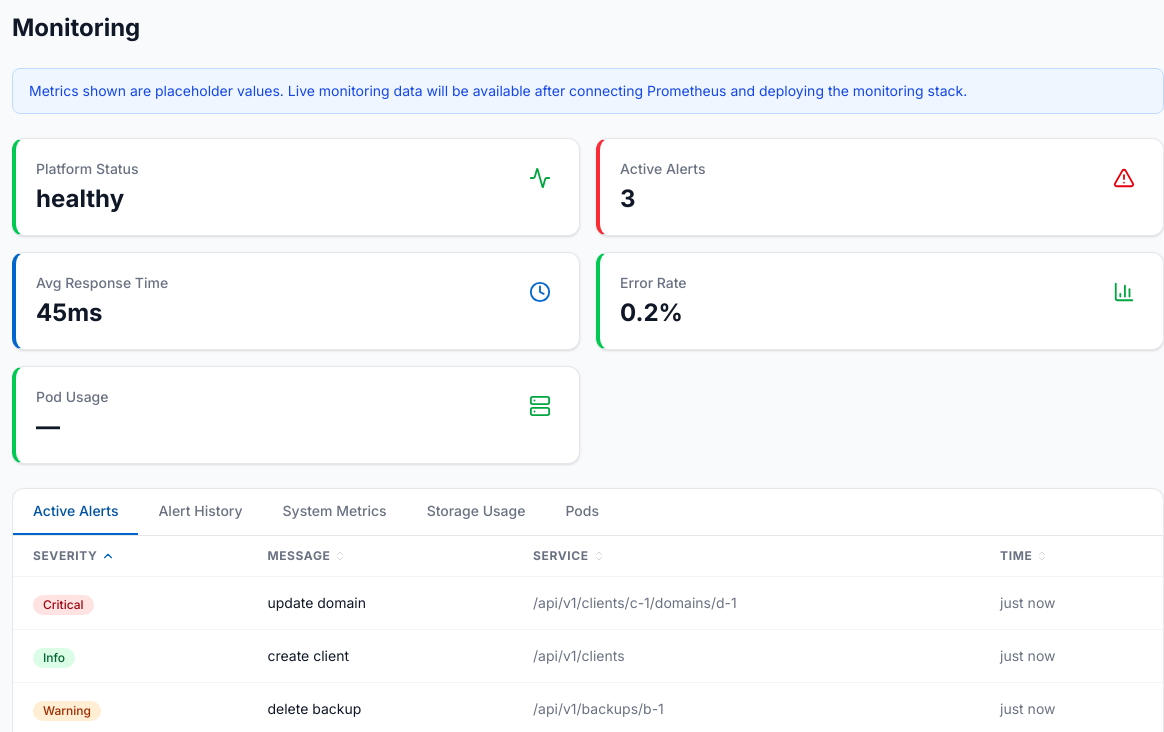
Test: Monitoring page › switches to System Metrics tab and shows resource bars
The width and height of the screenshot is (1164, 732).
Click the button with test id "tab-system-metrics" at (335,512), box [262,489,407,535]
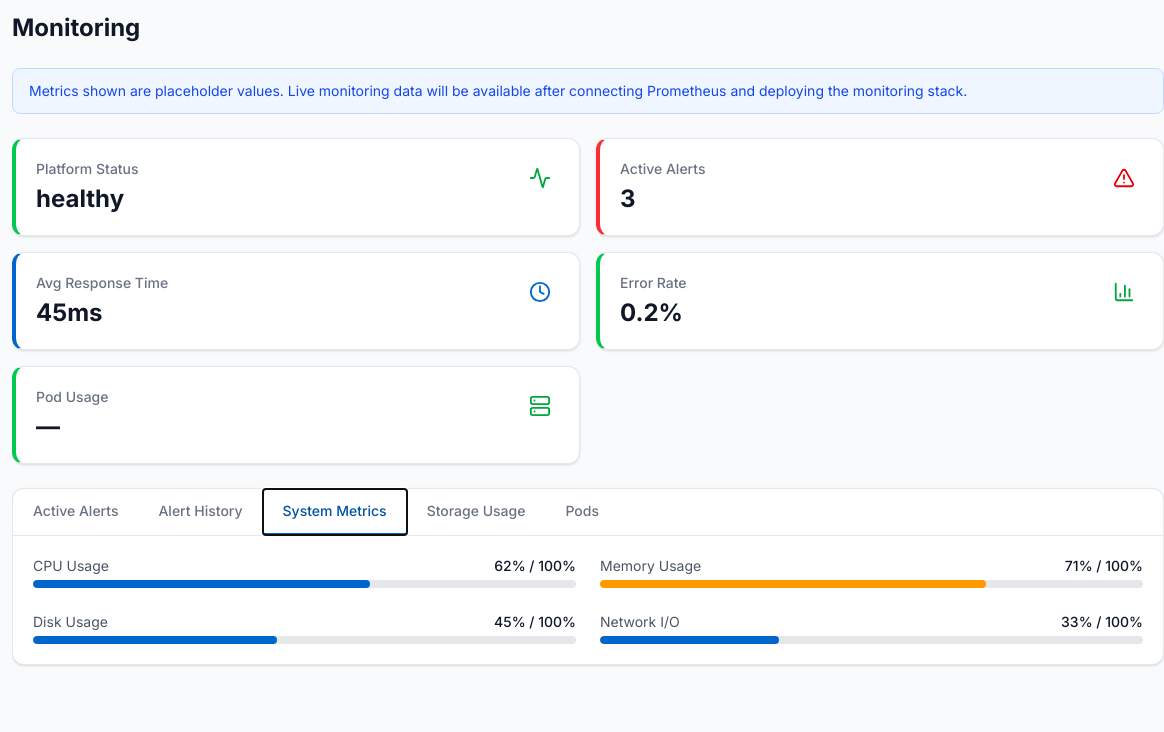
expect the element with test id "system-metrics" is shown: met, box [13,536,1163,664]
expect the text "CPU Usage" is shown: met, box [33,556,109,576]
expect the text "Memory Usage" is shown: met, box [600,556,701,576]
